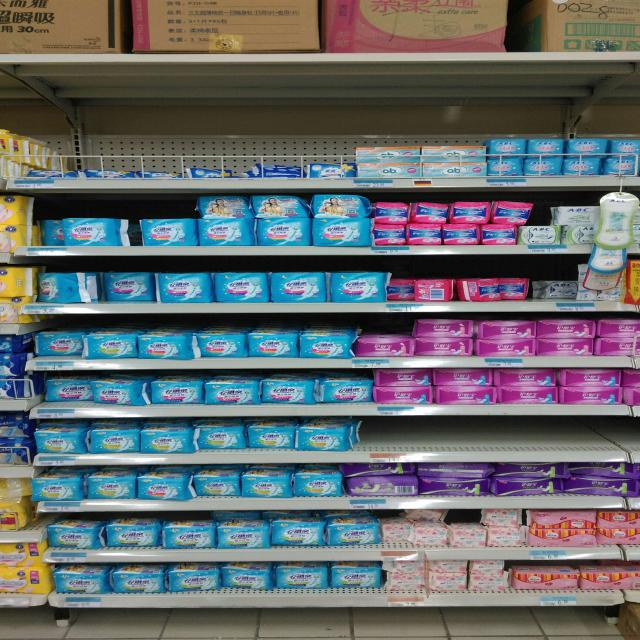void: (363, 419, 621, 451)
